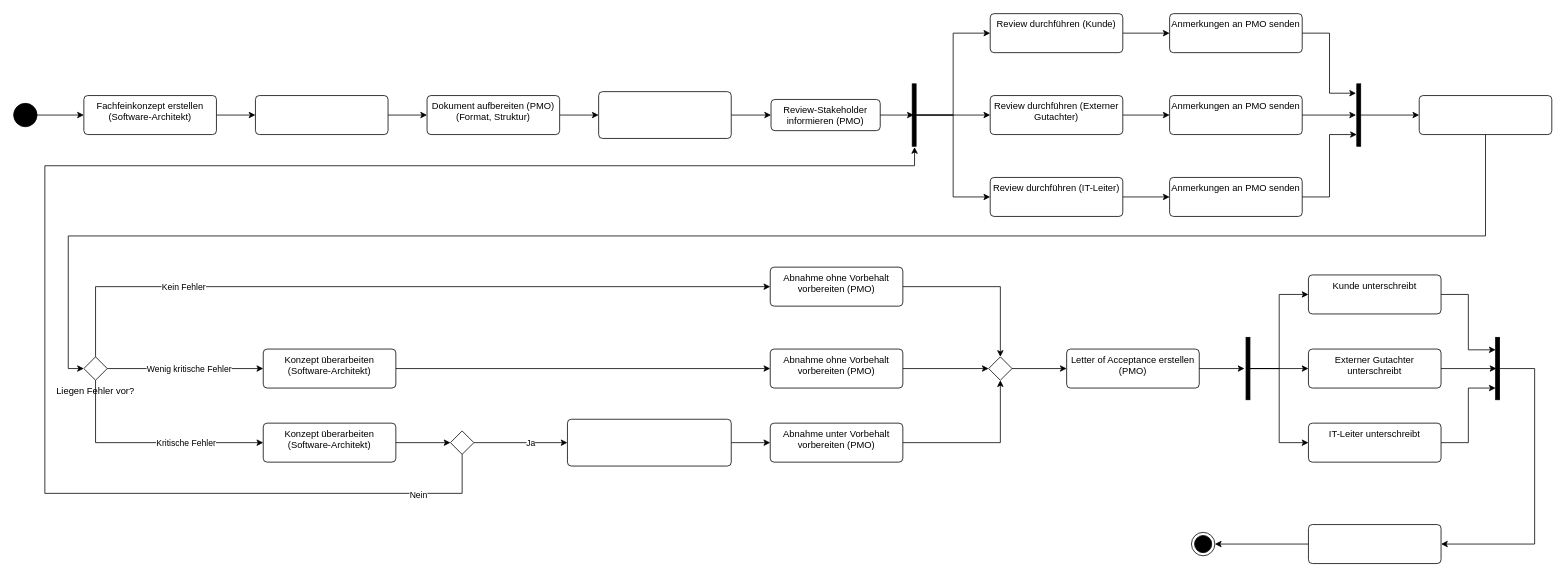
This 1565x583 diagram has some shape labels left out. Each missing label, with the centre of its shape:
Dokument auf SharePoint hochladen (PMO): the point at 664,114
Fachfeinkonzept an PMO übergeben: the point at 321,115
Implementierung starten (PMO): the point at 1374,544
Offene Punkte mit Fristsetzung für den Letter of Acceptance vorbereiten (PMO): the point at 649,442
PMO führt Gesamtbewertung durch: the point at 1485,115
Zeitdruck?: the point at 462,442
